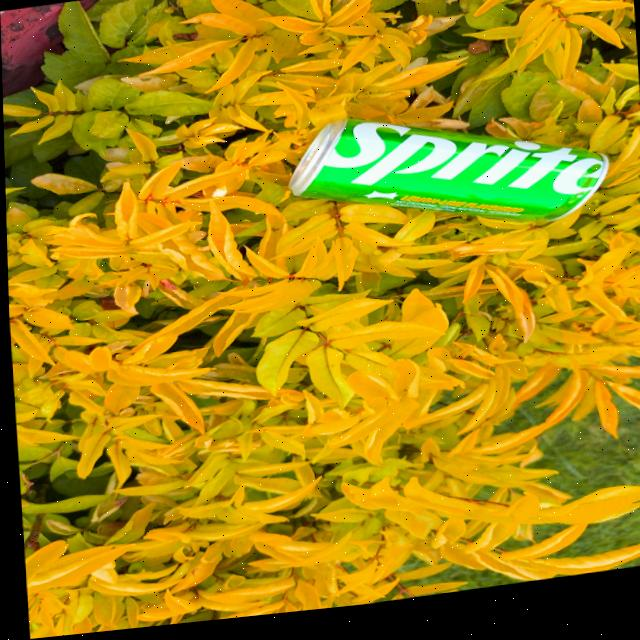Sprite: (293, 103, 620, 262)
